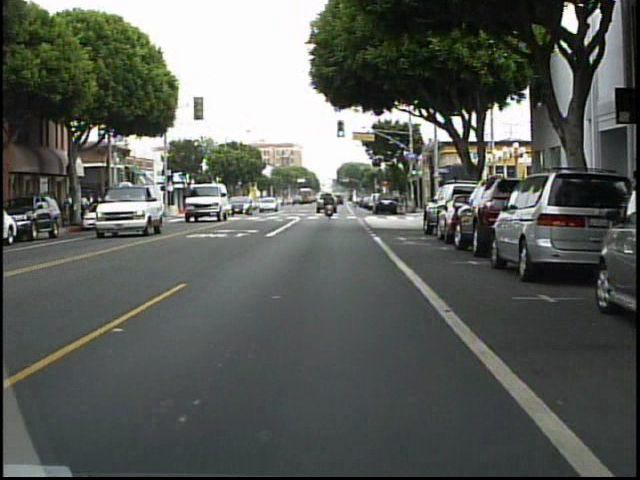person: (321, 191, 338, 220)
